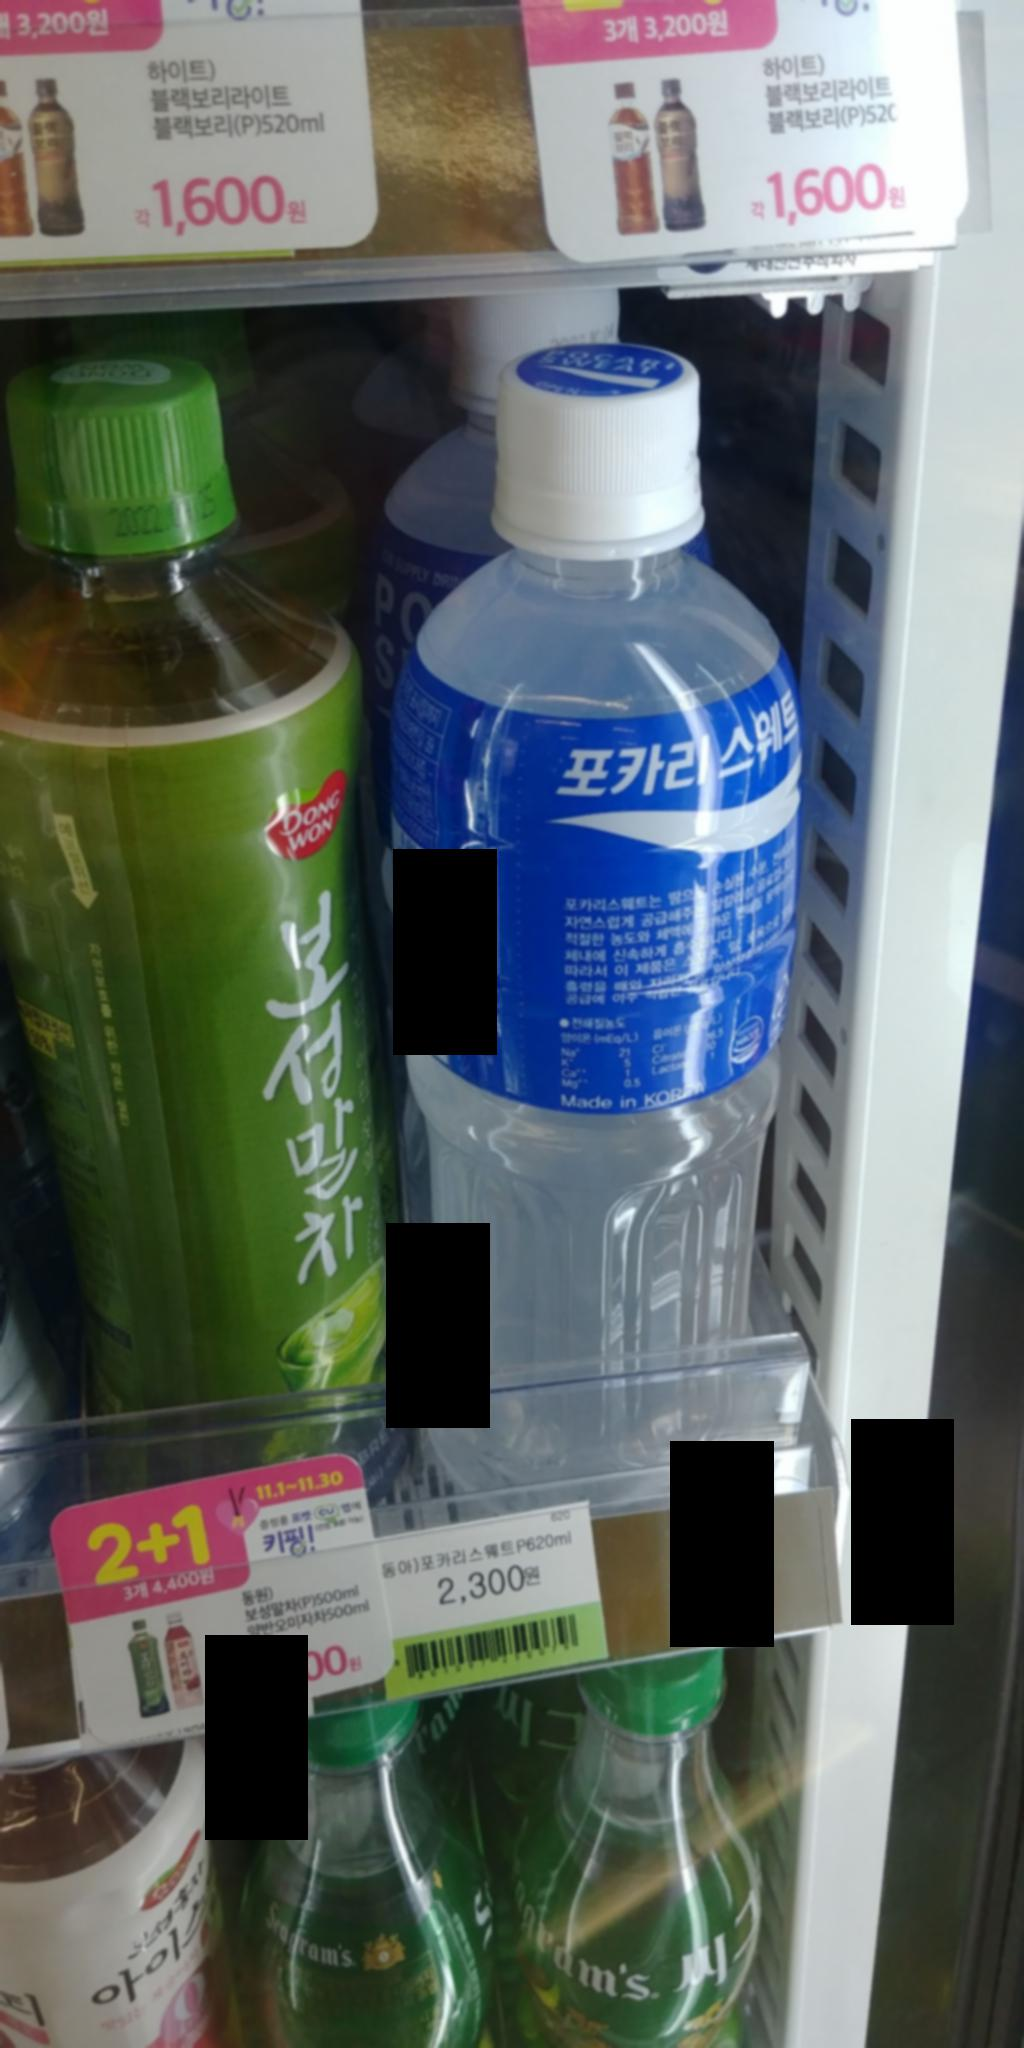pocarisweat: (389, 329, 827, 1535)
